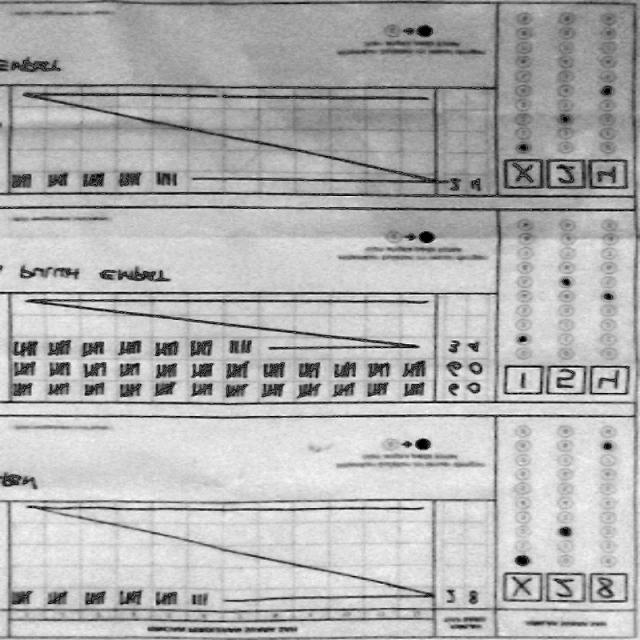Suara: (492, 359, 630, 400), (497, 160, 626, 194), (498, 573, 625, 607)
